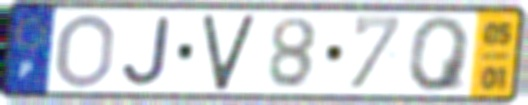7: (349, 14, 404, 94)
8: (263, 16, 321, 91)
J: (119, 15, 175, 89)
O: (52, 11, 118, 91)
Q: (407, 14, 475, 94)
V: (199, 12, 259, 93)
